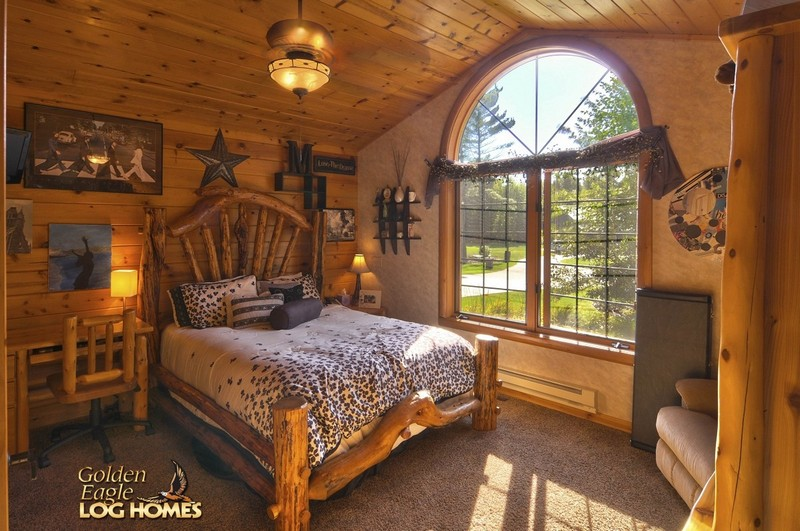bed: (147, 188, 504, 530)
chair: (58, 310, 150, 464), (654, 365, 716, 510)
lamp: (107, 267, 139, 323), (350, 253, 371, 310)
